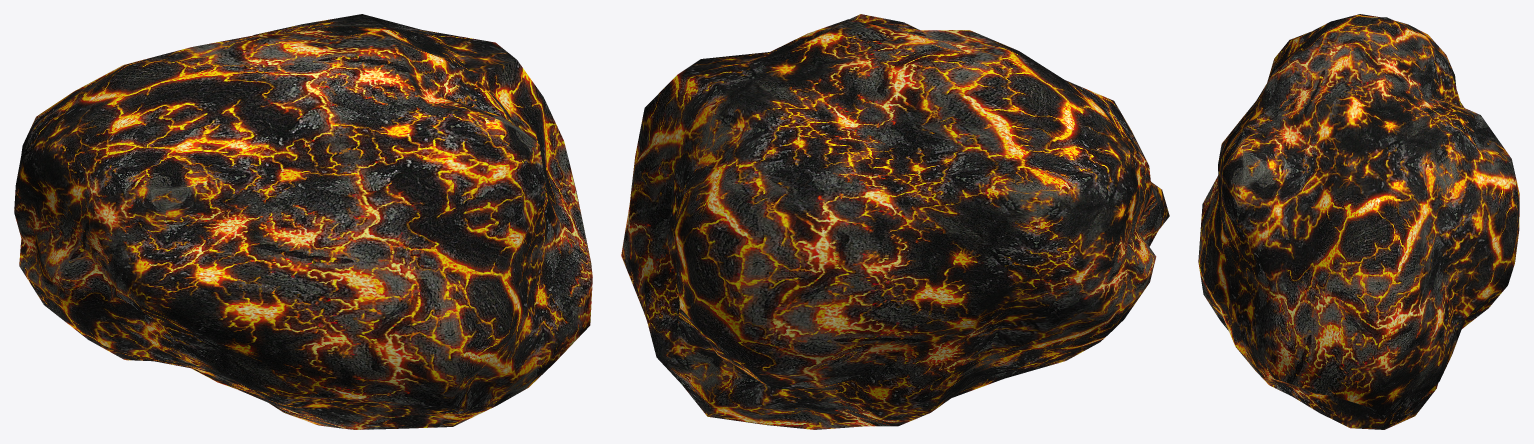
File: asteroid_moltenrock_large_s01_l0.fbx
3 views of the same model, side by side, from view 1: azimuth 30°, elevation 25°; view 2: azimuth 150°, elevation 25°; view 3: azimuth 270°, elevation 25° (orthographic). The views are drawn at different scales.
Visible parts, largest first — view 1: mesh_node; view 2: mesh_node; view 3: mesh_node.
Boxes of the visible parts, left/top/right/bottom form: mesh_node: left=14, top=14, right=592, bottom=429; mesh_node: left=621, top=14, right=1169, bottom=429; mesh_node: left=1198, top=14, right=1519, bottom=429.
Bounding box in the file's own units: 143 × 107 × 102.
